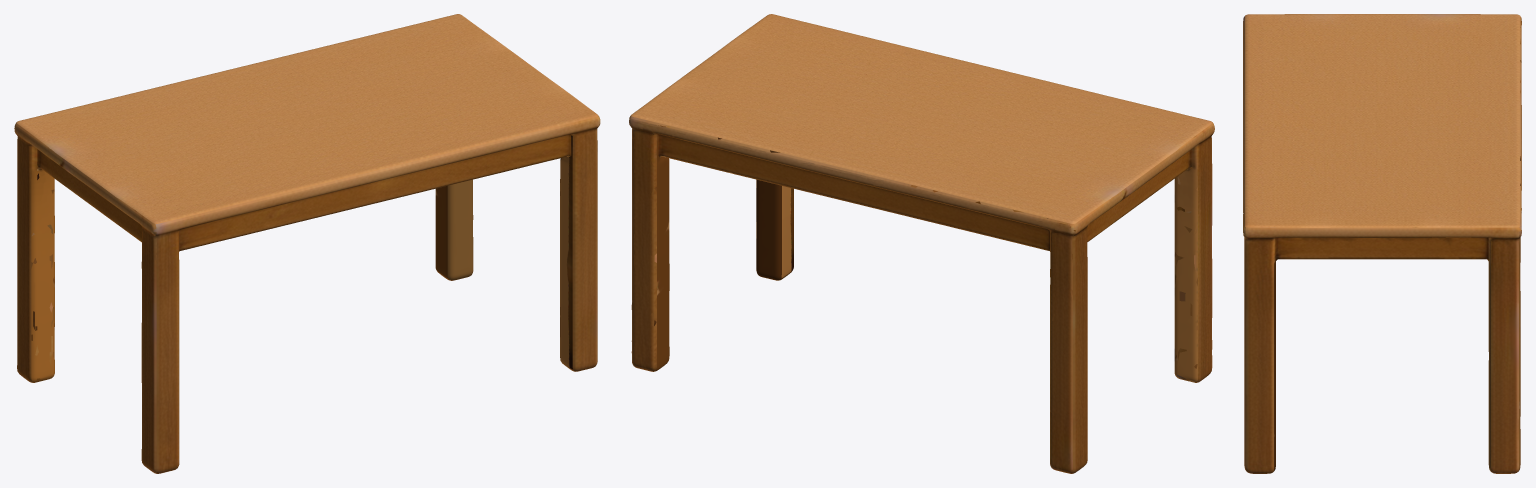
File: table__table#1.glb
3 renders of one model, left to right at view 1: azimuth 30°, elevation 25°; view 2: azimuth 150°, elevation 25°; view 3: azimuth 270°, elevation 25°, orthographic.
Visible parts, largest first — view 1: tmp2gjdb737.ply; view 2: tmp2gjdb737.ply; view 3: tmp2gjdb737.ply.
Part boxes in pixels (bbox=[...]): tmp2gjdb737.ply: bbox=[14, 14, 600, 473]; tmp2gjdb737.ply: bbox=[629, 14, 1214, 473]; tmp2gjdb737.ply: bbox=[1243, 14, 1521, 473].
Bounding box in the file's own units: 1.99 × 1.08 × 1.09.
1 material, 1 textured.
